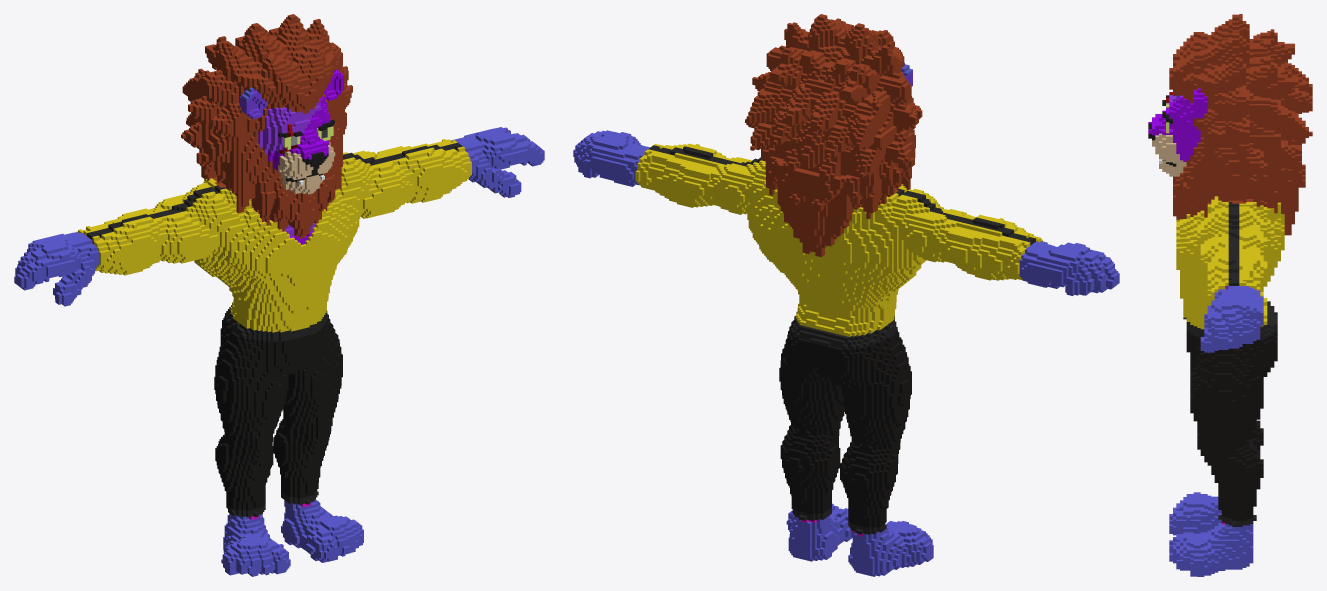
The picture shows the model from 3 angles, left to right: view 1: azimuth 30°, elevation 25°; view 2: azimuth 150°, elevation 25°; view 3: azimuth 270°, elevation 25°; orthographic projection. The views are drawn at different scales.
Parts seen in each view (by area): view 1: standard; view 2: standard; view 3: standard.
Part boxes in pixels (box(x1,y1,x2,y2)): standard: box(14, 14, 544, 576); standard: box(573, 14, 1119, 576); standard: box(1148, 14, 1312, 576).
Size of the model in its own units: 17.2 by 16.5 by 4.7.
5 materials, 5 textured.
